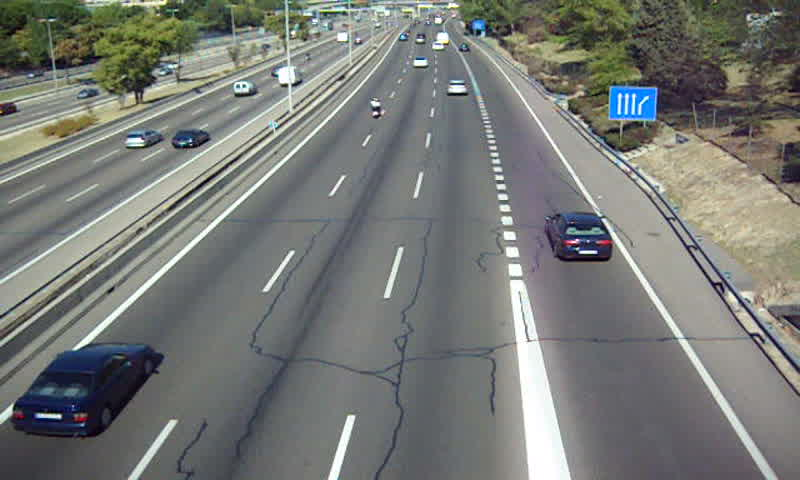car: (13, 342, 154, 438), (545, 213, 612, 262), (446, 79, 469, 95), (411, 55, 429, 69)
motorcycle: (367, 96, 383, 120)
